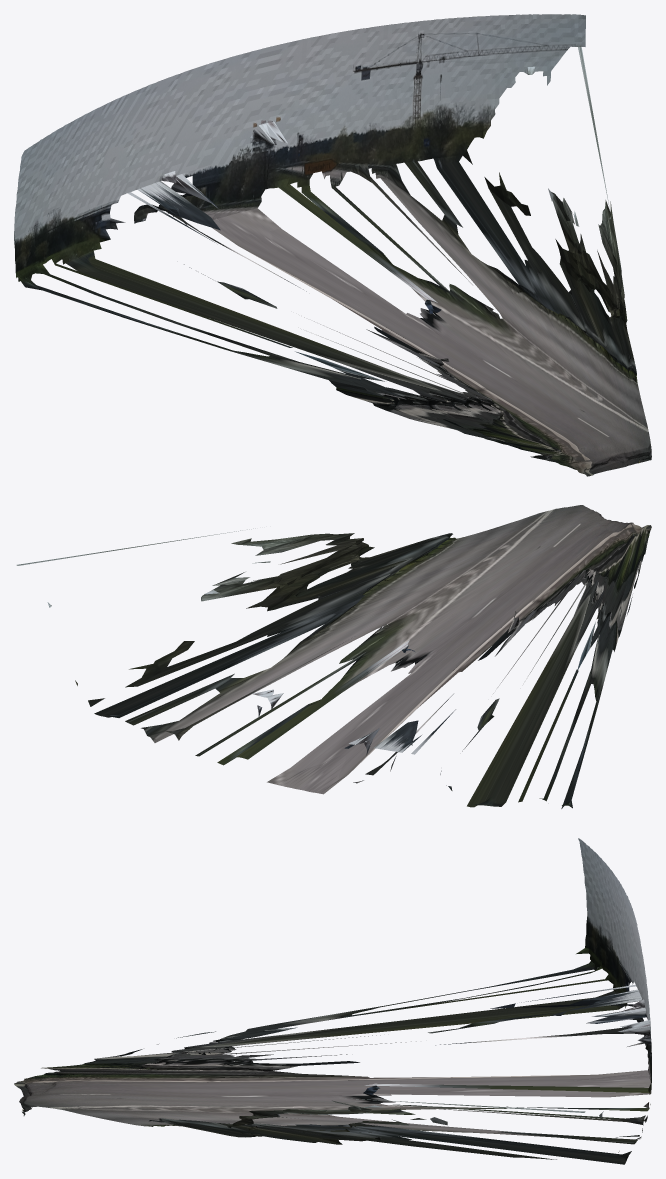
3 views of the same model, one above another, from view 1: azimuth 30°, elevation 25°; view 2: azimuth 150°, elevation 25°; view 3: azimuth 270°, elevation 25° (orthographic). The views are drawn at different scales.
Parts seen in each view (by area): view 1: defaultobject; view 2: defaultobject; view 3: defaultobject.
Boxes of the visible parts, bbox=[...] form: defaultobject: bbox=[14, 14, 651, 476]; defaultobject: bbox=[16, 505, 651, 808]; defaultobject: bbox=[14, 838, 651, 1164].
Size of the model in its own units: 40.95 by 11.66 by 44.62.
1 material, 1 textured.
